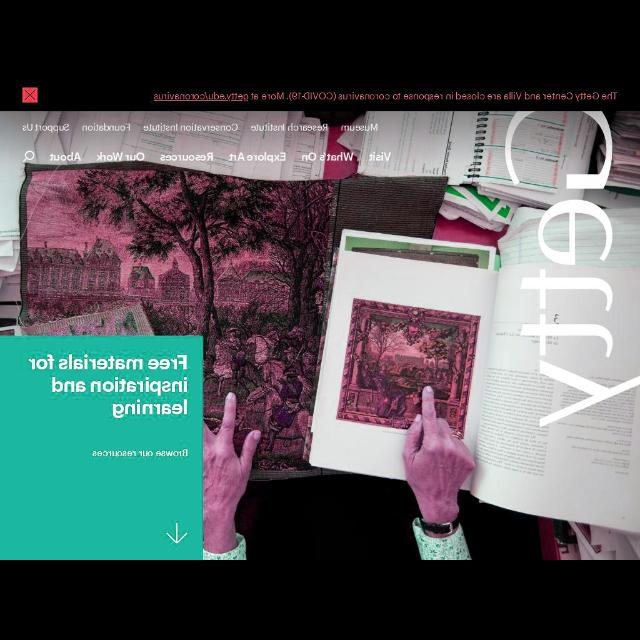backgroundimage: (2, 110, 640, 558)
icon: (166, 522, 187, 544), (24, 88, 36, 102), (23, 150, 35, 162)
text: (26, 352, 188, 422), (149, 91, 616, 103), (142, 122, 238, 134), (90, 448, 190, 458), (250, 123, 328, 133), (228, 152, 288, 164), (159, 152, 213, 164), (301, 150, 354, 162), (22, 122, 72, 134), (96, 152, 146, 162), (81, 125, 131, 134), (47, 152, 83, 164), (339, 124, 381, 134), (367, 152, 393, 164)
